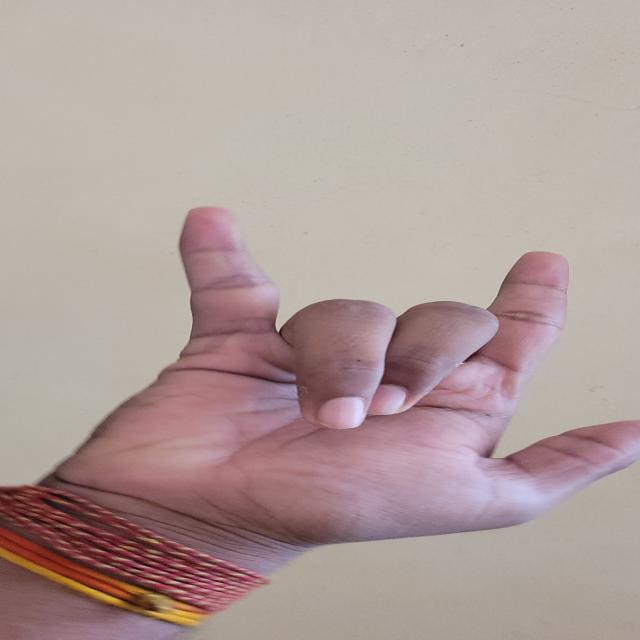i like you: (43, 174, 640, 593)
